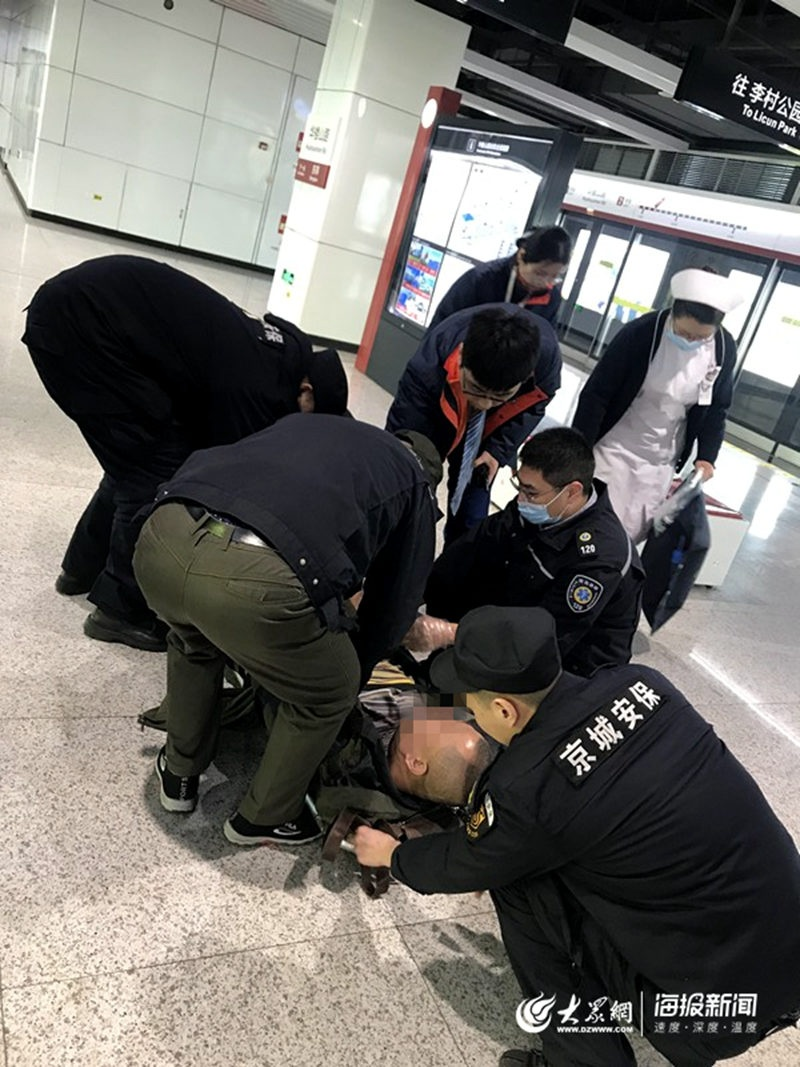falling: (204, 589, 516, 838)
